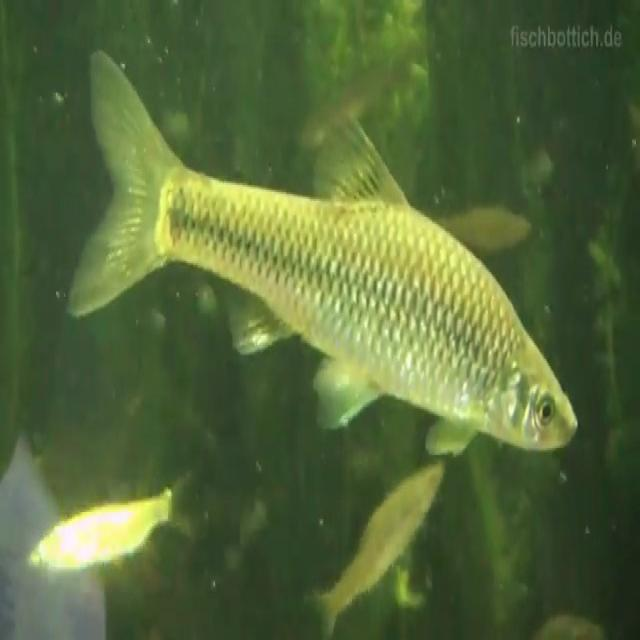Cakil Baligi: (62, 42, 584, 464)
